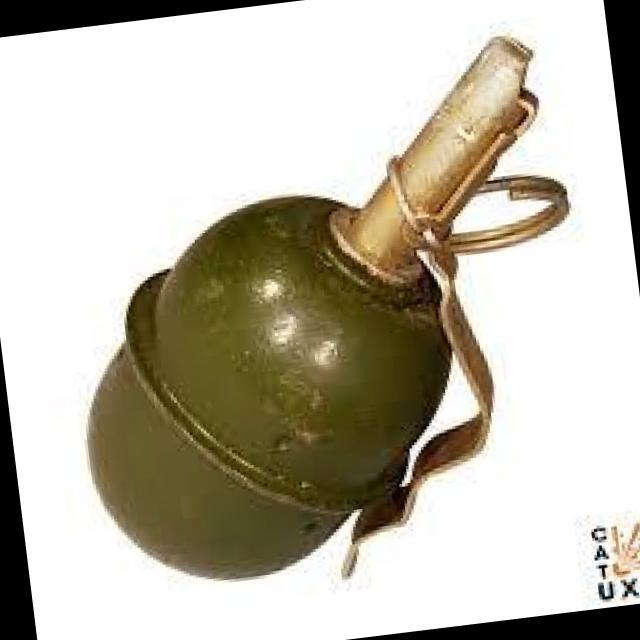grenade: (40, 19, 617, 622)
